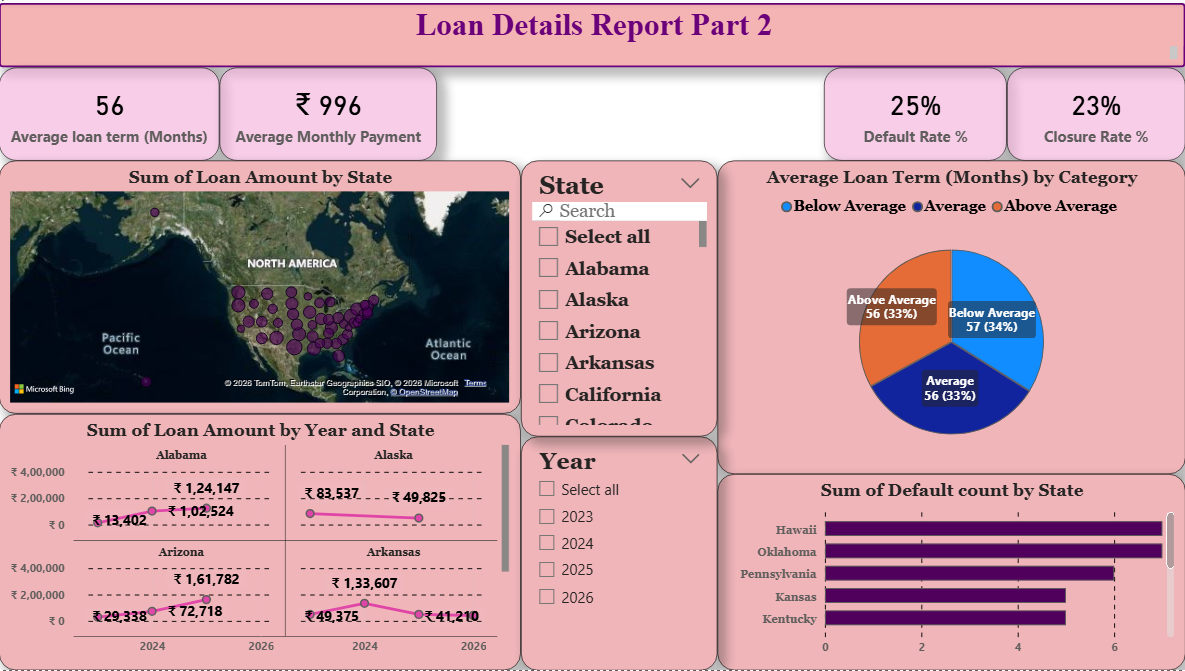

What the dashboard file says about the page in this screenshot:
{"tool":"powerbi","page":{"name":"Report Part 2","canvas":[1280,720],"ordinal":10},"visuals":[{"type":"textbox","title":"Loan Details Report Part 2","box":[0,0,1280.8,69.6],"z":0},{"type":"card","fields":{"Values":["Measure_Table.Average loan term (Months)"]},"box":[0,69.6,238,100.4],"z":1000},{"type":"card","fields":{"Values":["Measure_Table.Average Monthly Payment"]},"box":[238,69.6,234.8,100.4],"z":2000},{"type":"card","fields":{"Values":["Measure_Table.Default Rate %"]},"box":[890.6,69.6,197.5,100.4],"z":3000},{"type":"card","fields":{"Values":["Measure_Table.Approval Rate %"]},"box":[1088.1,69.6,192.7,100.4],"z":4000},{"type":"map","fields":{"Category":["State.State"],"Size":["Sum(loan_details.Loan Amount)"]},"box":[0,170,563.5,273.6],"z":5000},{"type":"lineChart","fields":{"Category":["Date.Year","Date.Month"],"Y":["Sum(loan_details.Loan Amount)"],"Rows":["State.State"]},"box":[0,443.7,563.5,276.9],"z":6000},{"type":"pieChart","title":"Average Loan Term (Months) by Category","fields":{"Category":["Category.Loan Amount Category"],"Y":["Avg(loan_details.Loan Term (Months))"]},"box":[775.6,170,505.2,338.4],"z":7000},{"type":"clusteredBarChart","fields":{"Category":["State.State"],"Y":["Sum(loan_details.Default count)"]},"box":[775.6,508.4,505.2,212.1],"z":8000},{"type":"slicer","fields":{"Values":["Date.Year"]},"box":[563.5,468,212.1,252.6],"z":9000},{"type":"slicer","fields":{"Values":["State.State"]},"box":[563.5,170,212.1,297.9],"z":10000}]}

Visuals, with their boxes in screenshot pixels (x1, y1, x2, y2), scaled from the page's 1280x720 canvas onto the 1185x671 screenshot:
"Loan Details Report Part 2" textbox: 0/0/1184/65
card - Measure_Table.Average loan term (Months): 0/65/220/158
card - Measure_Table.Average Monthly Payment: 220/65/438/158
card - Measure_Table.Default Rate %: 825/65/1007/158
card - Measure_Table.Approval Rate %: 1007/65/1184/158
map - State.State x Sum(loan_details.Loan Amount): 0/158/522/413
lineChart - Date.Year x Date.Month: 0/414/522/670
"Average Loan Term (Months) by Category" pieChart: 718/158/1184/474
clusteredBarChart - State.State x Sum(loan_details.Default count): 718/474/1184/670
slicer - Date.Year: 522/436/718/670
slicer - State.State: 522/158/718/436
